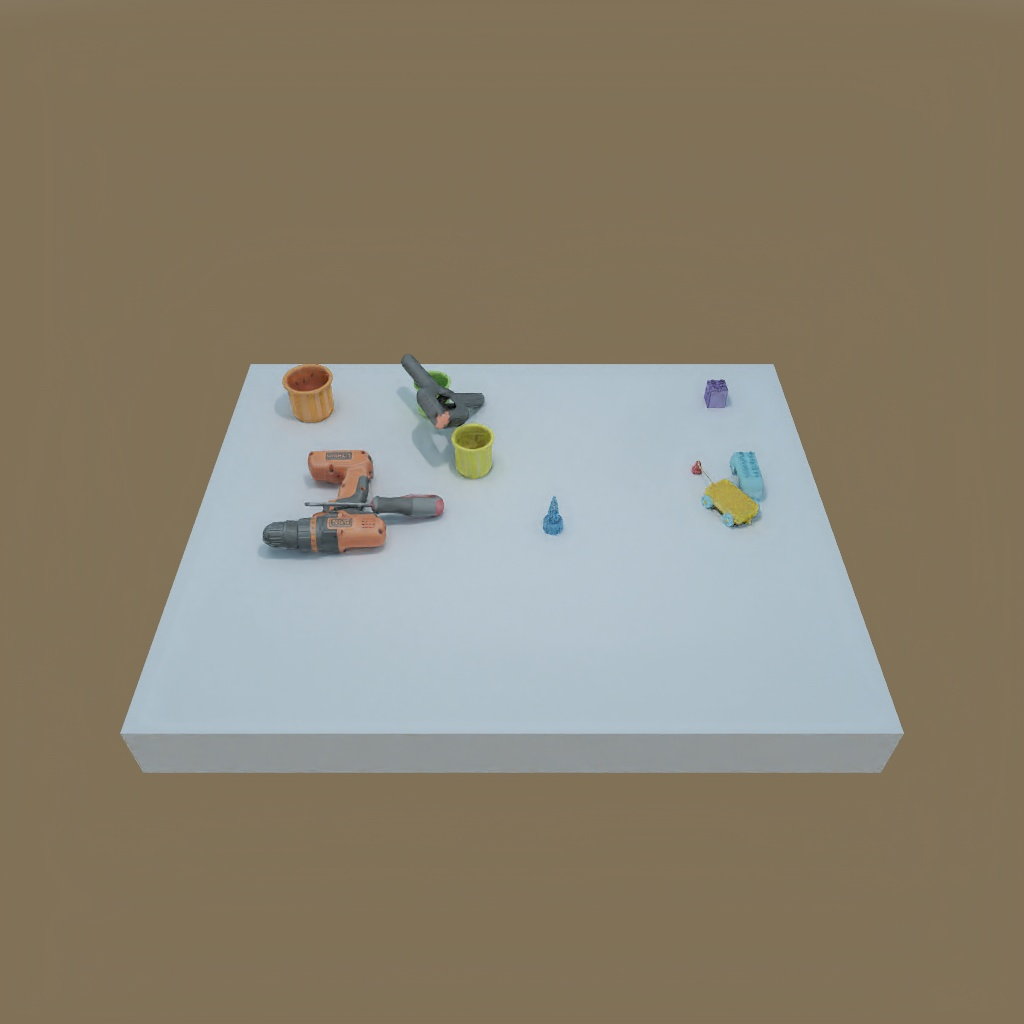power_drill: (262, 449, 381, 552)
